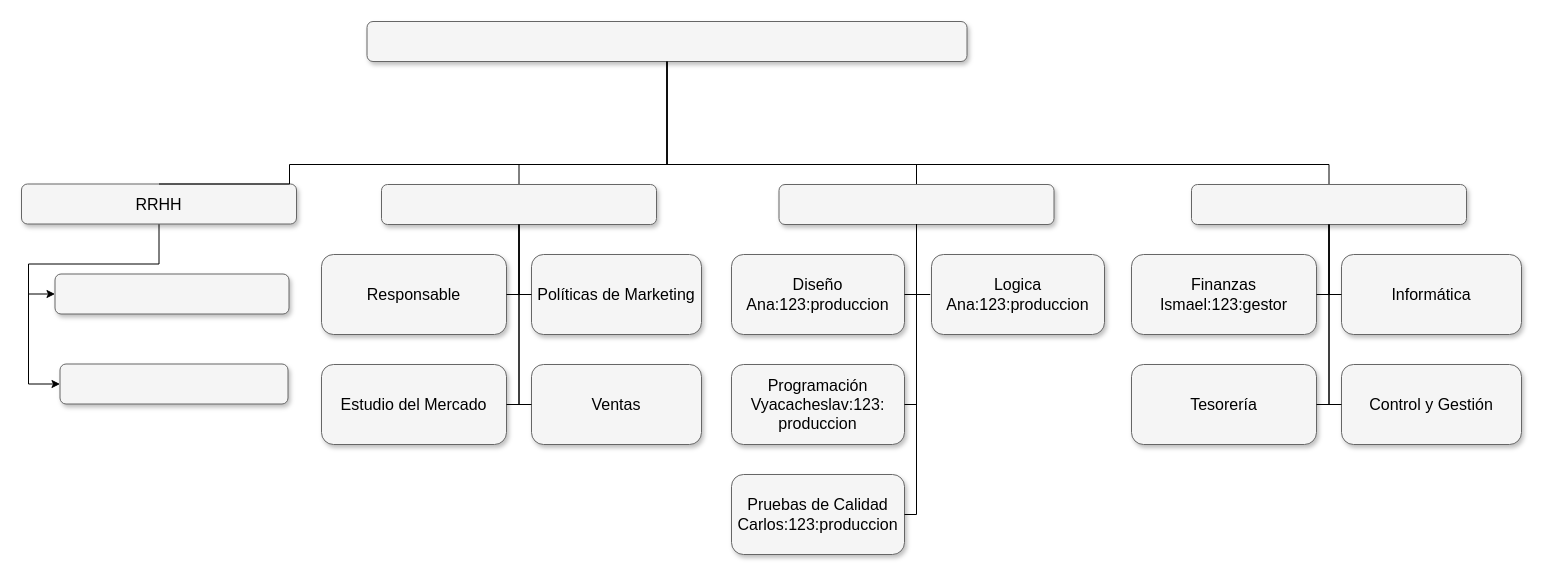
Image size: 1545x579. Some labels were removed from this diagram. The centre of each missing label's shape, as x and y in pixels:
"ADMINISTRACIÓN" belongs at pixel 1329 206.
"CEO Vyacheslav:123:administrador" belongs at pixel 667 42.
"MARKETING" belongs at pixel 519 206.
"PRODUCCIÓN" belongs at pixel 917 206.
"Profesorado Carlos:123:rrhh" belongs at pixel 172 295.
"V. Shylyayev Vyacheslav:123:administrador" belongs at pixel 174 385.
